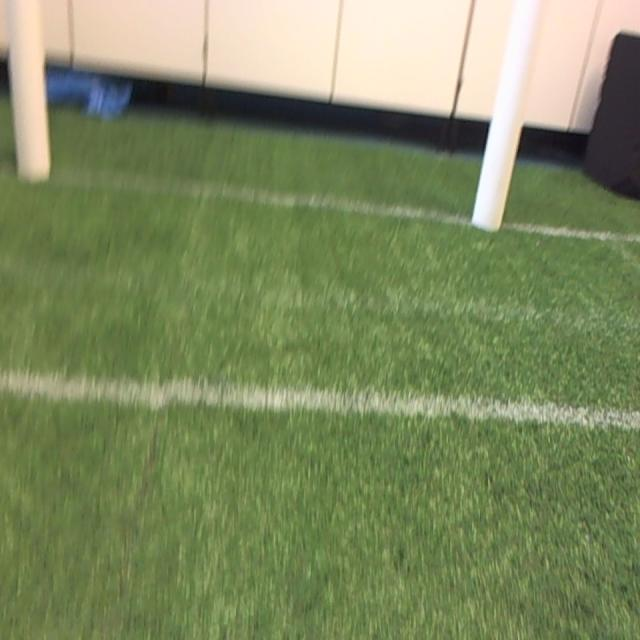goalpost: (471, 1, 545, 229), (7, 2, 49, 180)
